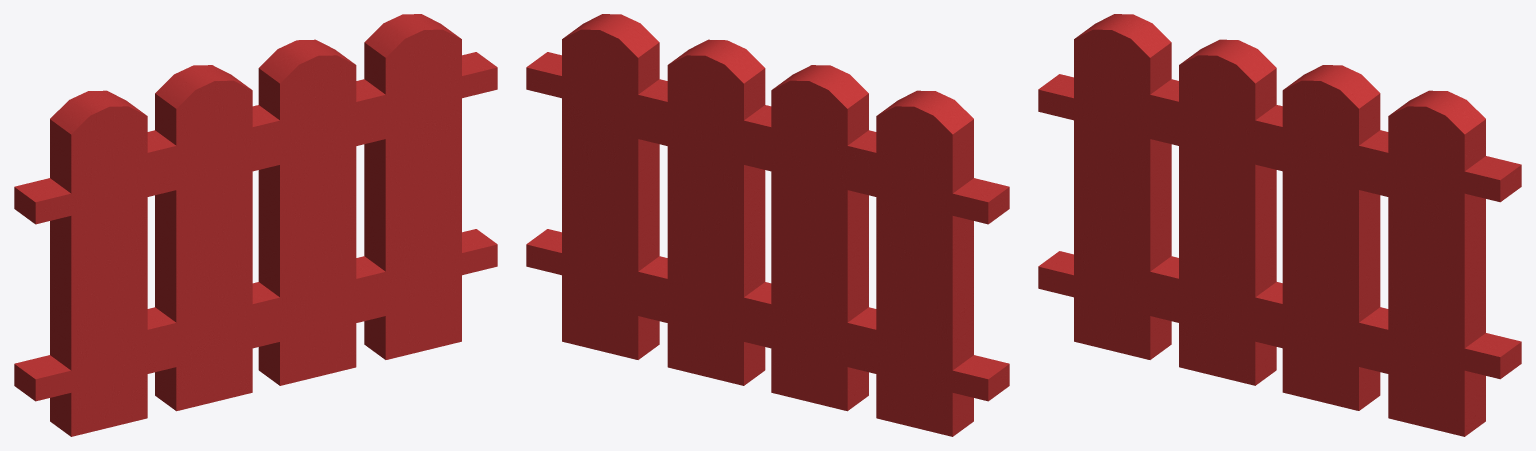
The model's file is Fence_Red.glb.
The picture shows the model from 3 angles, left to right: view 1: azimuth 30°, elevation 25°; view 2: azimuth 150°, elevation 25°; view 3: azimuth 330°, elevation 25°; orthographic projection.
Parts seen in each view (by area): view 1: fenceHIGH; view 2: fenceHIGH; view 3: fenceHIGH.
Part boxes in pixels (x1,y1,x2,y2): fenceHIGH: (14, 14, 497, 436); fenceHIGH: (526, 14, 1009, 436); fenceHIGH: (1038, 14, 1521, 436).
Bounding box in the file's own units: 5.18 × 3.43 × 0.4139.
1 material, 1 textured.
